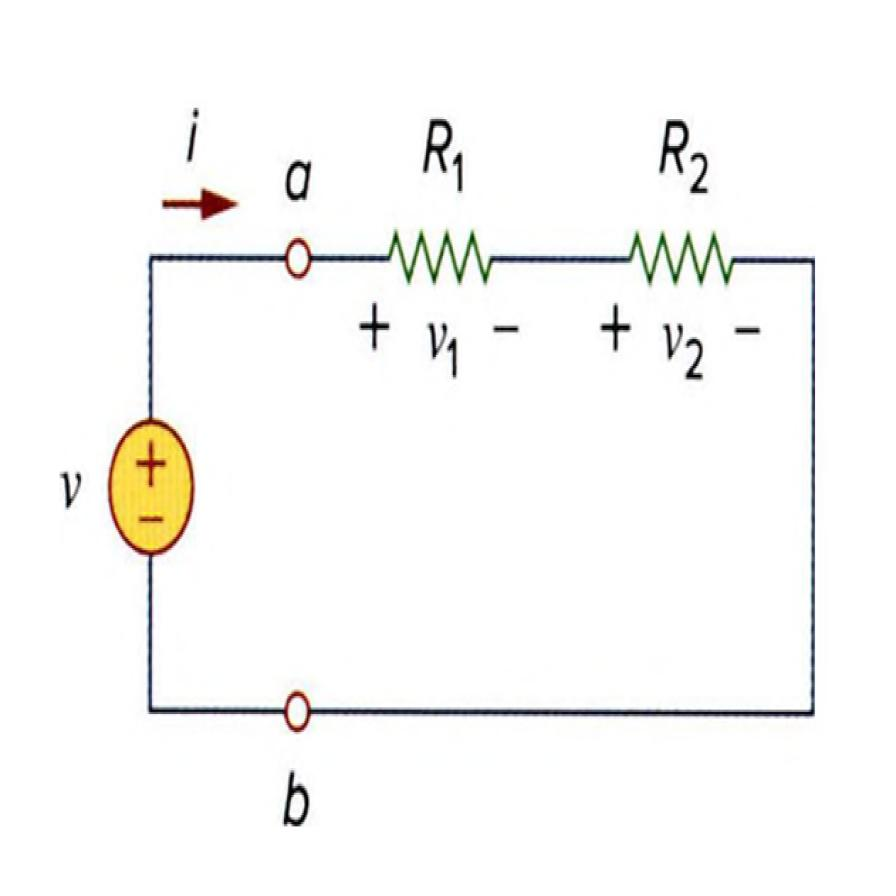R1: (607, 201, 745, 307), (372, 210, 503, 305)
V1: (104, 410, 204, 572)
